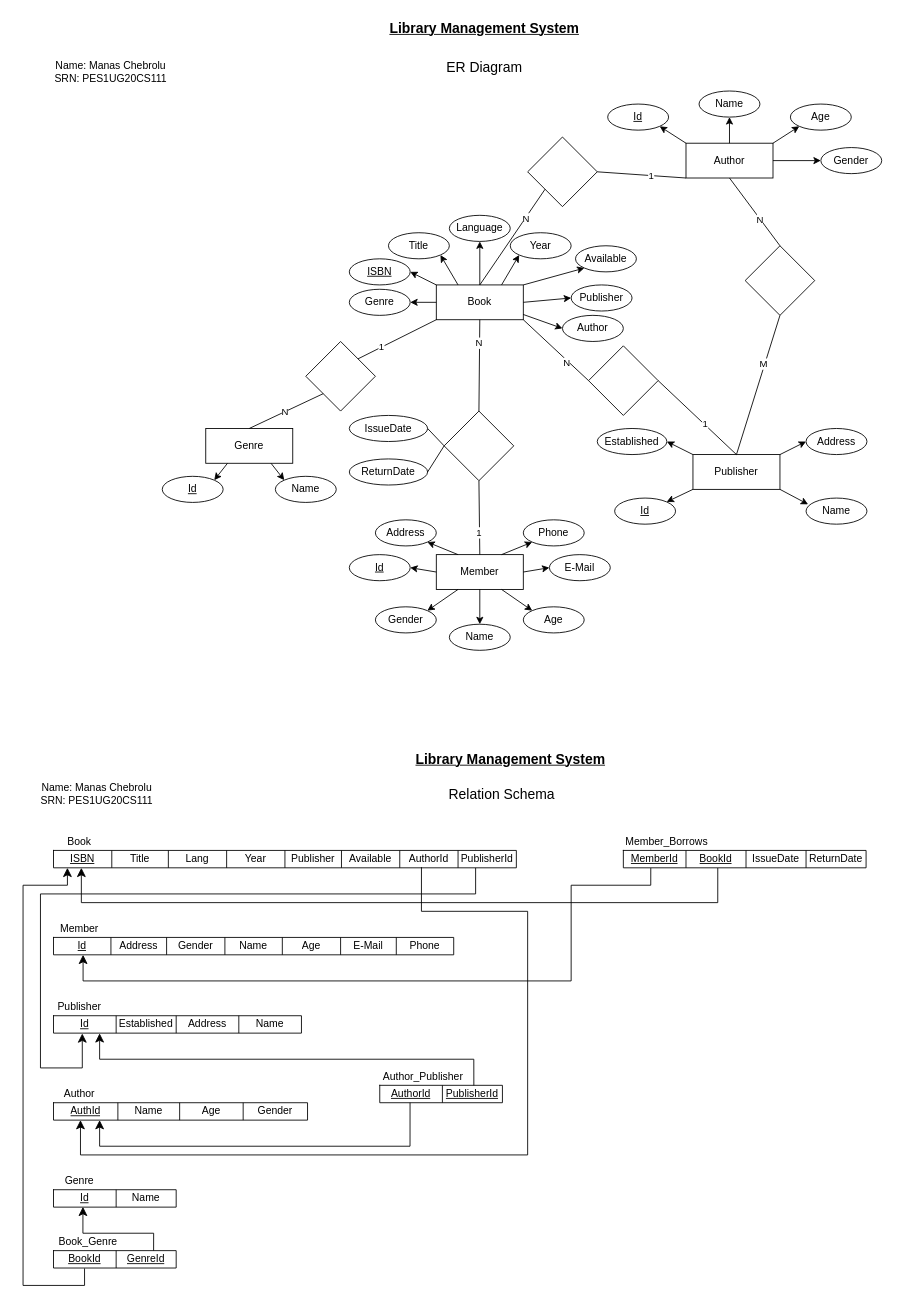
This 897x1309 diagram has some shape labels left out. Here are the shapes that lost their labels. From the top down, the centre of each, then its label:
pixel 562 171: Writes
pixel 779 280: Partnership
pixel 340 376: Contains
pixel 623 380: Published
pixel 478 445: Borrows
